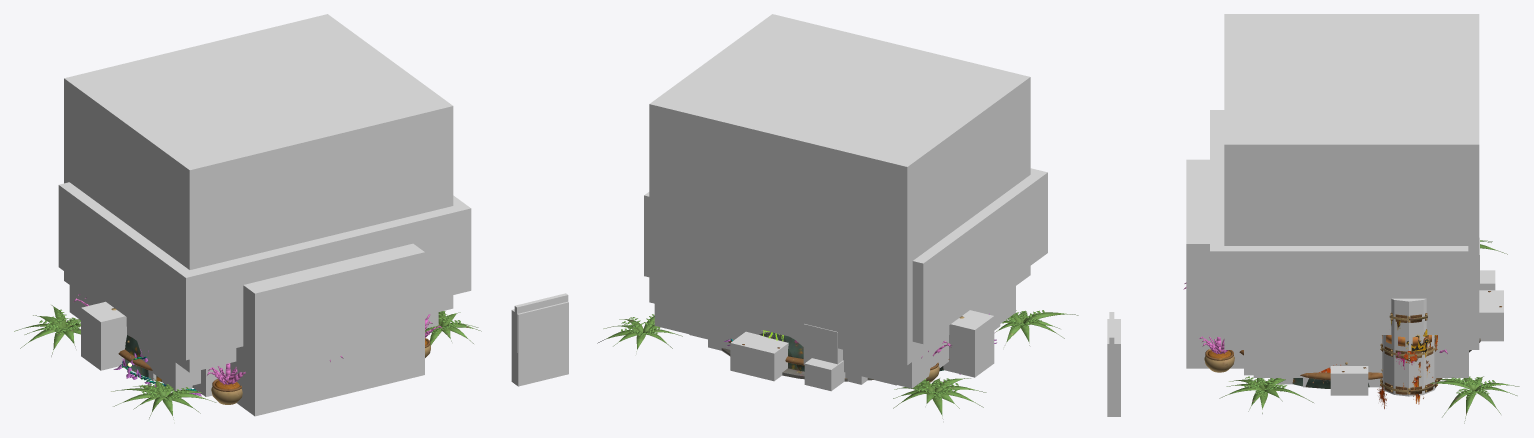
The model's file is residential_hut.glb.
3 views of the same model, side by side, from view 1: azimuth 30°, elevation 25°; view 2: azimuth 150°, elevation 25°; view 3: azimuth 270°, elevation 25° (orthographic). The views are drawn at different scales.
Visible parts, largest first — view 1: col_bld_residential_hut_roofstuff, col_bld_residential_hut_awnings, col_bld_residential_hut_doors, col_bld_residential_hut_SIGN_t_sign_posts, residential_hut_body_a, col_bld_PROP_barrel_i.008, col_bld_residential_hut_pipes, residential_hut_body_b, col_bld_residential_hut_SIGN_t_sign; view 2: col_bld_residential_hut_roofstuff, col_bld_residential_hut_awnings, col_bld_residential_hut_pipes, residential_hut_body_a, col_bld_PROP_barrel_i.008, col_bld_PROP_crate_m_i.010, residential_hut_body_b, col_bld_WALL_vent_box_i.002, col_bld_PROP_crate_s_i.014; view 3: col_bld_residential_hut_roofstuff, col_bld_residential_hut_awnings, col_bld_residential_hut_doors, residential_hut_body_b, col_bld_residential_hut_pipes, col_bld_residential_hut_T_side, col_bld_PROP_crate_m_i.010, col_bld_PROP_crate_s_i.013, col_bld_residential_hut_SIGN_t_sign_posts, residential_hut_decal, col_bld_residential_hut_SIGN_t_sign.
Boxes of the visible parts, box(x1,y1,x2,y2) form: col_bld_residential_hut_roofstuff: box(64, 14, 453, 372); col_bld_residential_hut_awnings: box(58, 182, 471, 360); col_bld_residential_hut_doors: box(230, 243, 424, 416); col_bld_residential_hut_SIGN_t_sign_posts: box(511, 301, 568, 386); residential_hut_body_a: box(14, 294, 245, 419); col_bld_PROP_barrel_i.008: box(81, 301, 126, 370); col_bld_residential_hut_pipes: box(69, 285, 438, 389); residential_hut_body_b: box(330, 311, 481, 361); col_bld_residential_hut_SIGN_t_sign: box(514, 293, 568, 352); col_bld_residential_hut_roofstuff: box(649, 14, 1030, 365); col_bld_residential_hut_awnings: box(644, 168, 1047, 343); col_bld_residential_hut_pipes: box(654, 286, 1015, 388); residential_hut_body_a: box(782, 310, 1078, 418); col_bld_PROP_barrel_i.008: box(943, 310, 994, 377); col_bld_PROP_crate_m_i.010: box(730, 331, 788, 381); residential_hut_body_b: box(597, 314, 846, 378); col_bld_WALL_vent_box_i.002: box(803, 324, 842, 364); col_bld_PROP_crate_s_i.014: box(804, 358, 845, 391); col_bld_residential_hut_roofstuff: box(1224, 14, 1479, 349); col_bld_residential_hut_awnings: box(1210, 110, 1468, 334); col_bld_residential_hut_doors: box(1186, 159, 1243, 368); residential_hut_body_b: box(1183, 282, 1519, 423); col_bld_residential_hut_pipes: box(1253, 350, 1468, 377); col_bld_residential_hut_T_side: box(1381, 298, 1436, 396); col_bld_PROP_crate_m_i.010: box(1479, 290, 1503, 341); col_bld_PROP_crate_s_i.013: box(1330, 366, 1368, 395); col_bld_residential_hut_SIGN_t_sign_posts: box(1107, 319, 1120, 416); residential_hut_decal: box(1312, 312, 1437, 409); col_bld_residential_hut_SIGN_t_sign: box(1109, 312, 1114, 383).
Size of the model in its own units: 7.92 by 5.09 by 7.27.
31 materials, 10 textured.
